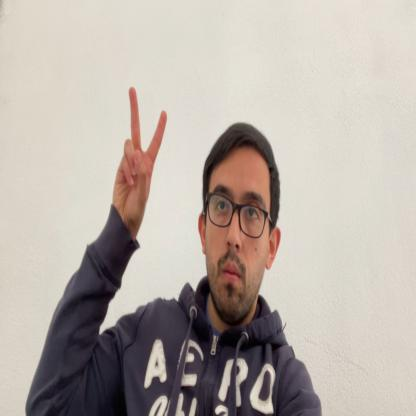V: (112, 86, 167, 234)
